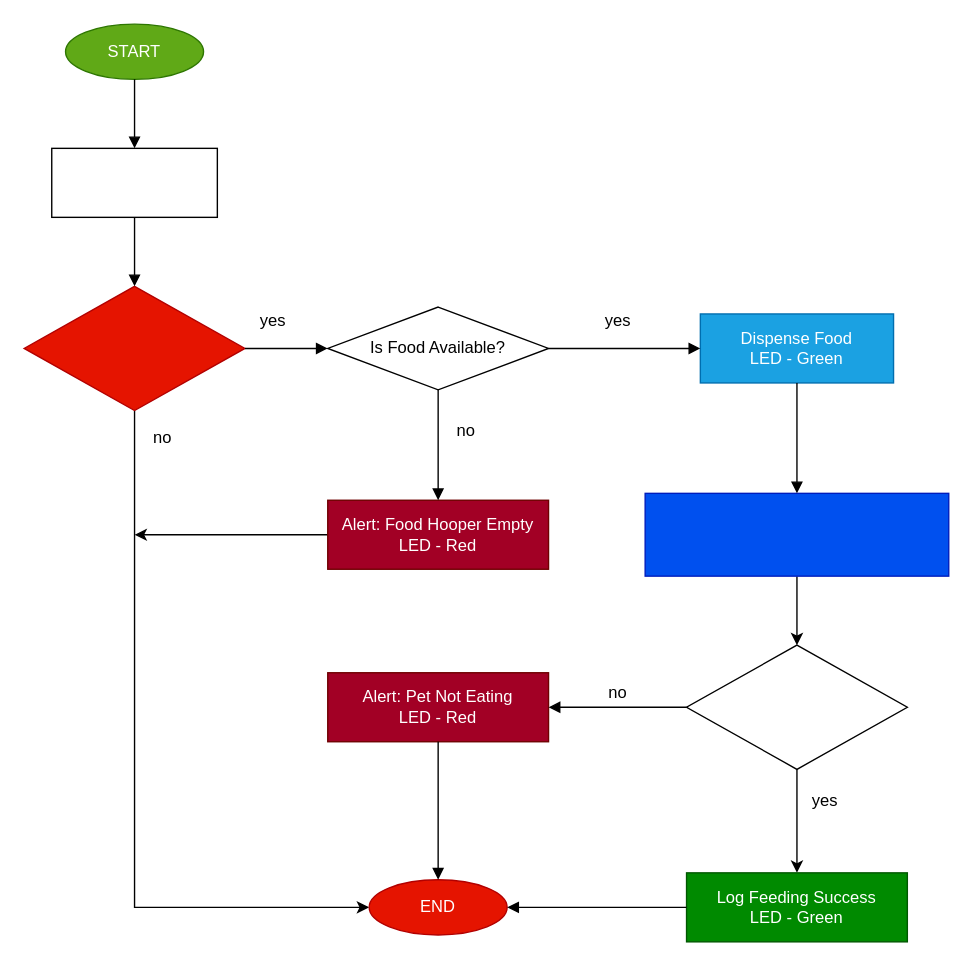
Image size: 973x966. Some labels were removed from this diagram. Each missing label, with the centre of its shape:
Did Pet Eat? (weight decreases): point (796, 706)
Is it Feeding Time? (RTC): point (134, 348)
Monitor Bowl Weight (wait 10 mins): point (796, 534)
System ON: point (133, 182)
